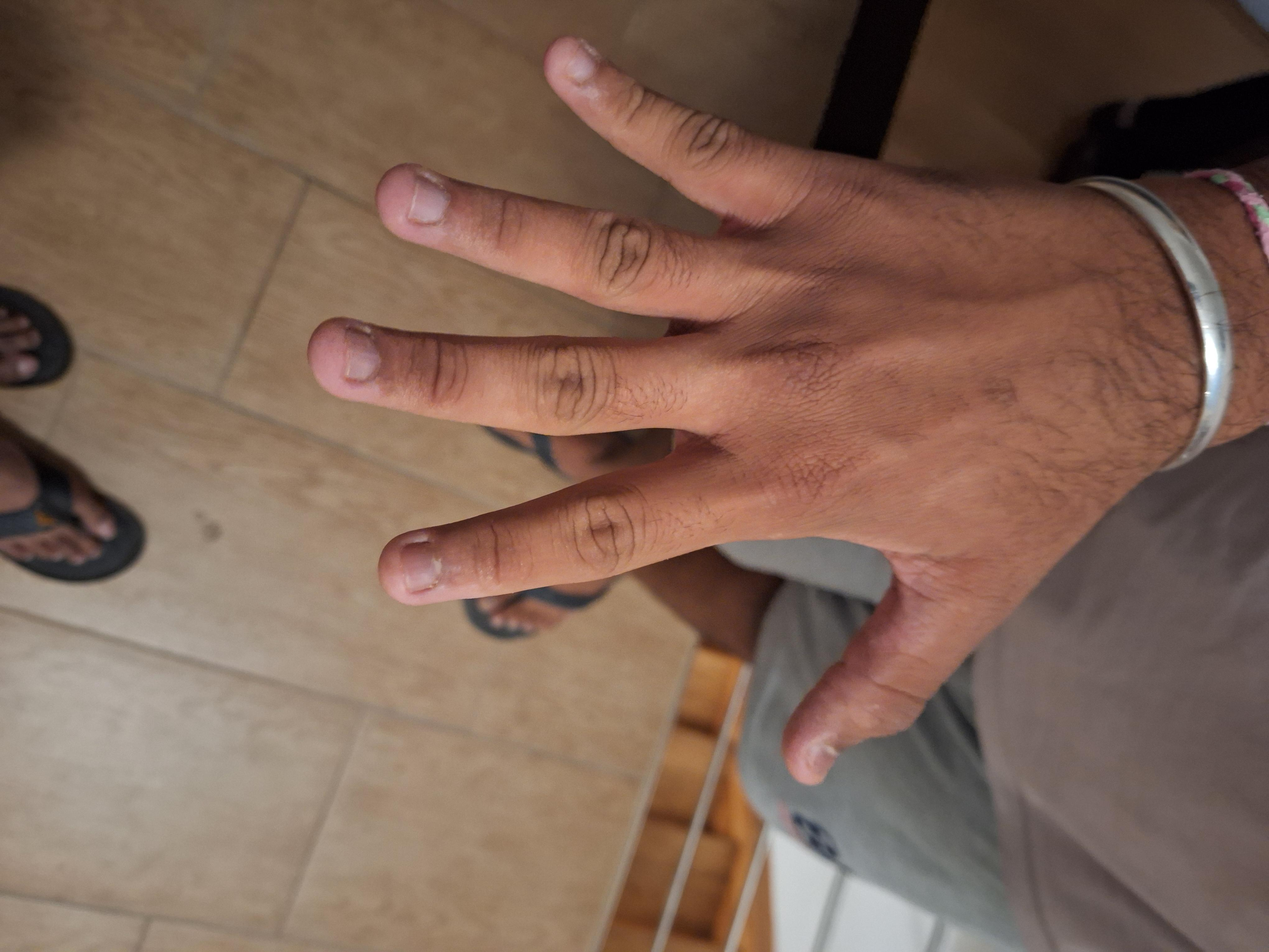Fingernail: (402, 542, 444, 593), (408, 175, 448, 224), (345, 329, 379, 381), (562, 44, 599, 87), (803, 743, 838, 781)
